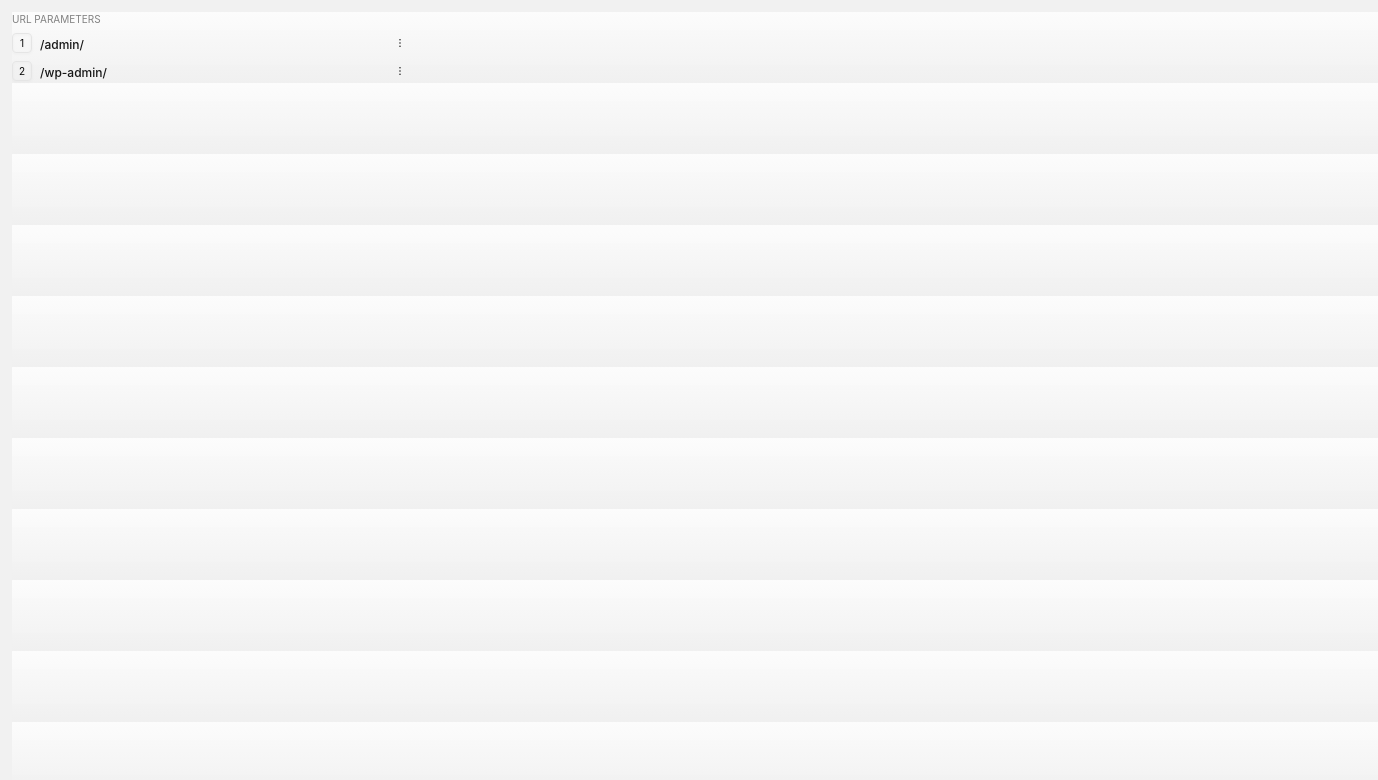
ParamsList › removes a param
What coordinates should you click on to do the following:
click the 1st button named "More actions"
I would click on:
 (400, 43)
Its box is [388,31,412,55].
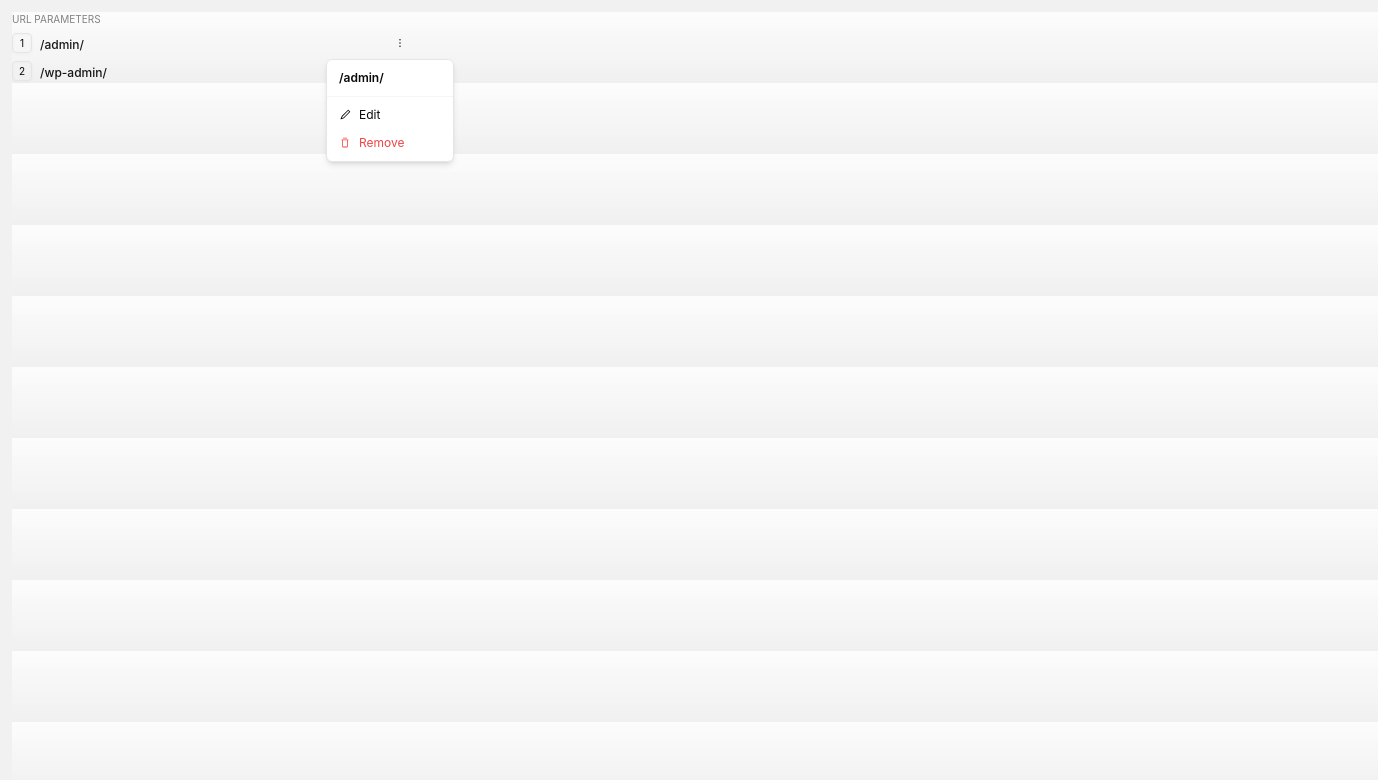
What coordinates should you click on to do the following:
click the menu item "Remove"
I would click on:
 (372, 142)
Its box is [339,135,404,150].
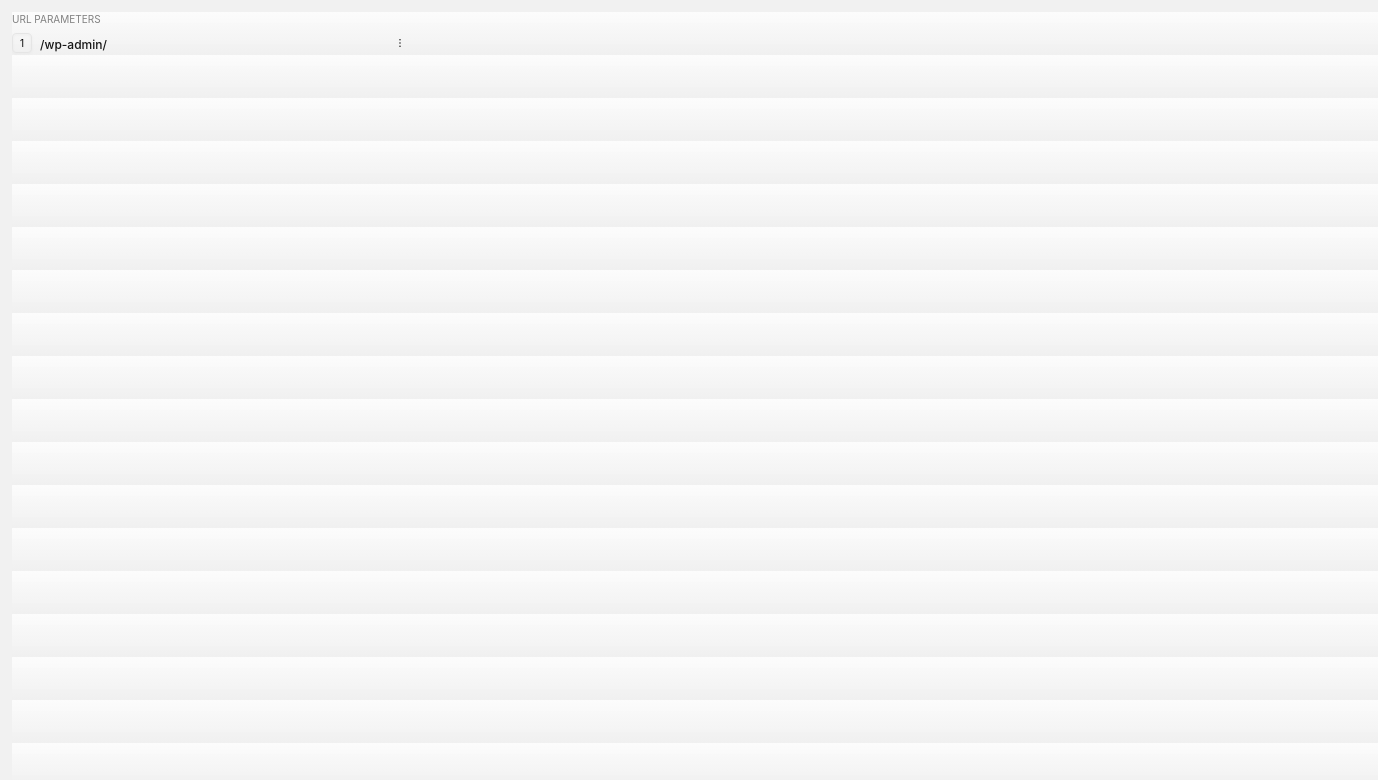
Expected: the button "/wp-admin/" is shown, [40,36,107,54]
Expected: the button "/admin/" is gone
